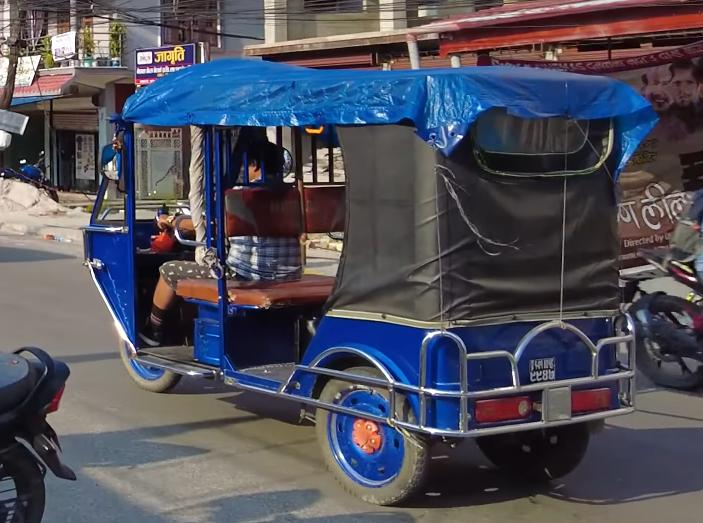e-rickshaw: (66, 45, 639, 514)
